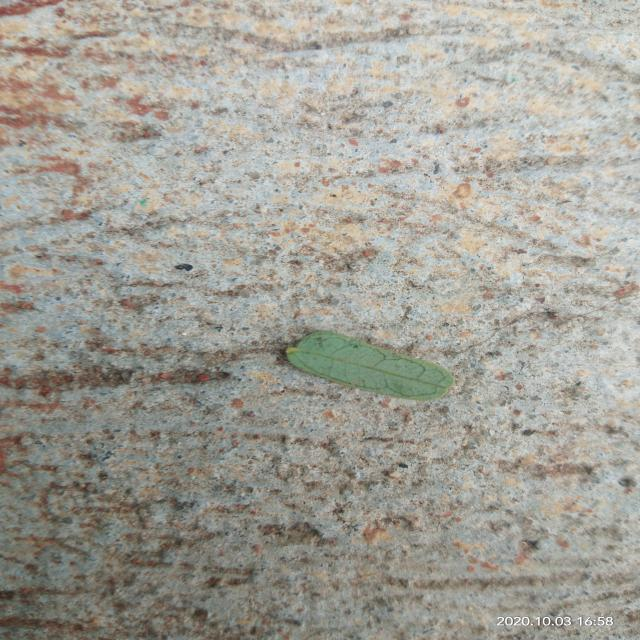tamarind: (287, 331, 453, 400)
